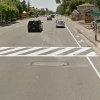Crosswalk: (4, 39, 95, 70)
